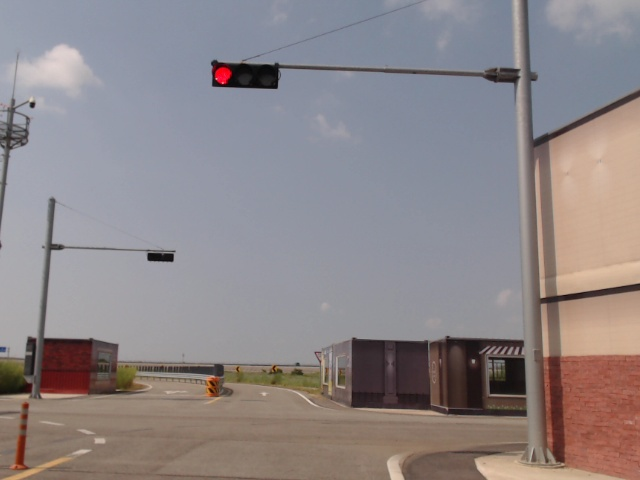red_3: (211, 61, 280, 91)
